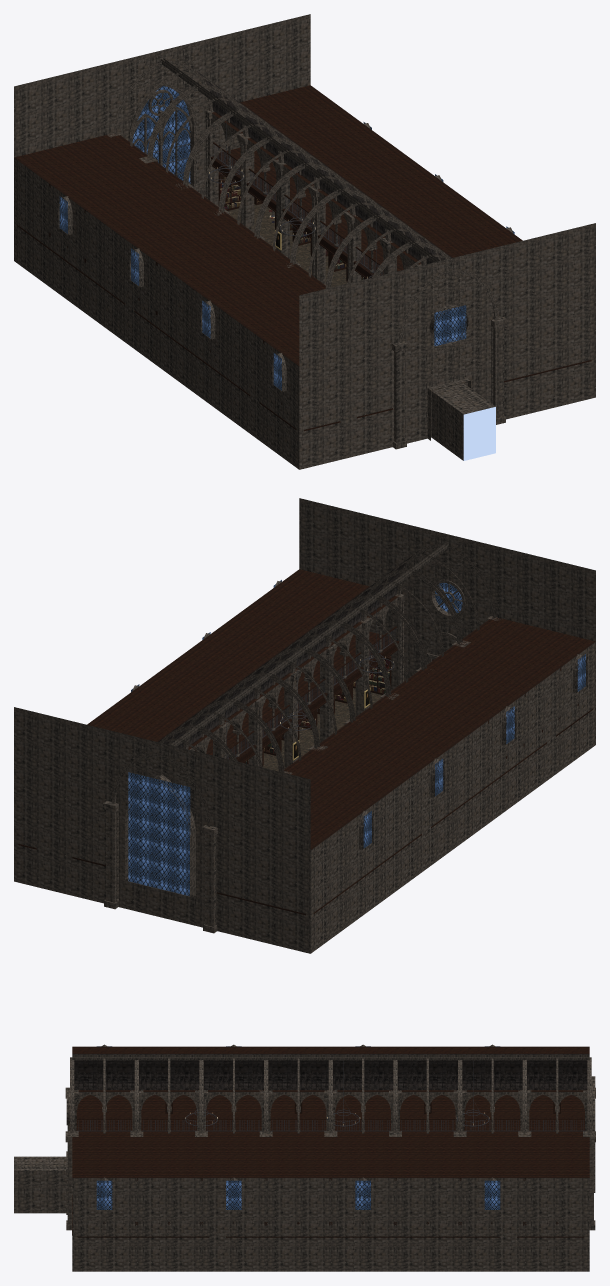
Rendered from library.glb.
3 views of the same model, one above another, from view 1: azimuth 30°, elevation 25°; view 2: azimuth 150°, elevation 25°; view 3: azimuth 270°, elevation 25° (orthographic). The views are drawn at different scales.
Visible parts, largest first — view 1: Library; view 2: Library; view 3: Library.
Boxes of the visible parts, bbox=[...] form: Library: bbox=[14, 14, 595, 469]; Library: bbox=[14, 498, 595, 953]; Library: bbox=[14, 1044, 595, 1271].
Bounding box in the file's own units: 24.64 × 18.5 × 45.
19 materials, 11 textured.
